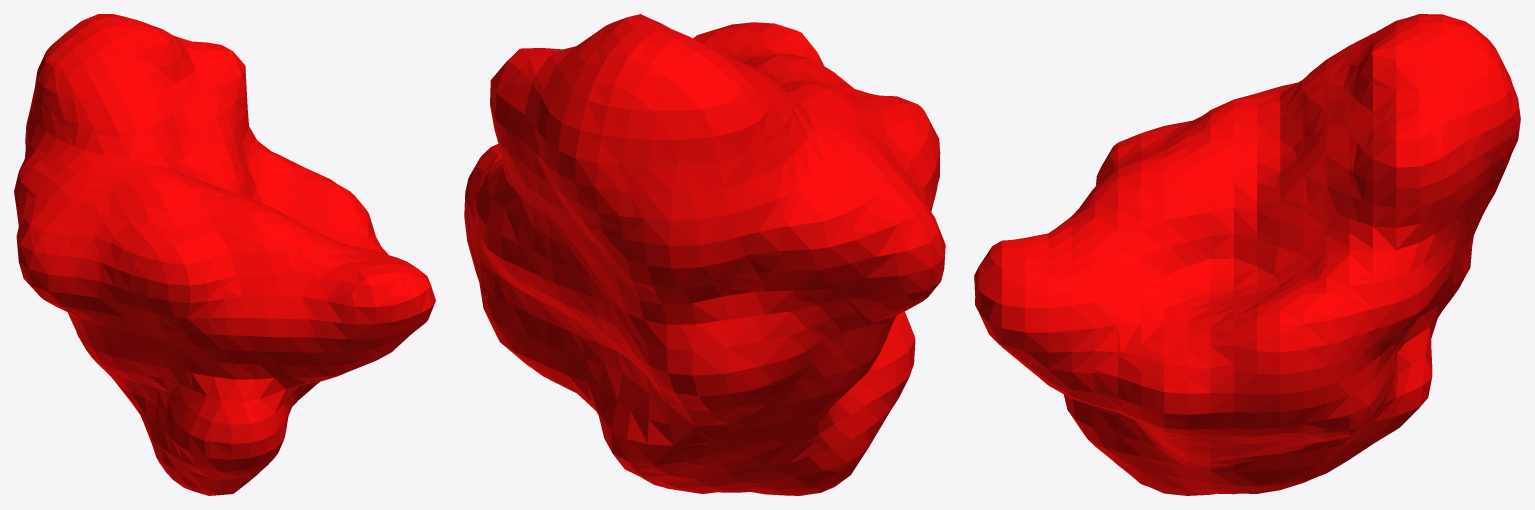
Rendered from ychJ_coarse.dae.
3 renders of one model, left to right at view 1: azimuth 30°, elevation 25°; view 2: azimuth 150°, elevation 25°; view 3: azimuth 270°, elevation 25°, orthographic. The views are drawn at different scales.
Parts seen in each view (by area): view 1: ychJ; view 2: ychJ; view 3: ychJ.
Boxes of the visible parts, bbox=[...] form: ychJ: bbox=[14, 14, 435, 495]; ychJ: bbox=[464, 14, 945, 495]; ychJ: bbox=[974, 14, 1520, 495].
Bounding box in the file's own units: 42.62 × 47.66 × 50.23.
